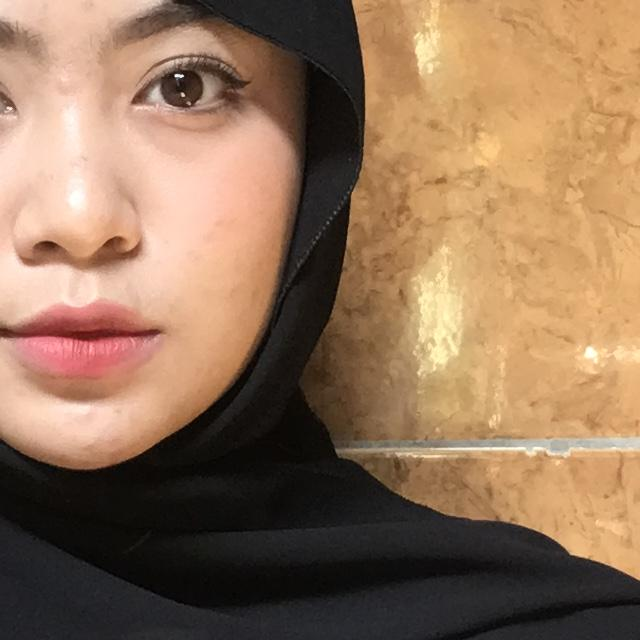kamu: (0, 421, 217, 640)
